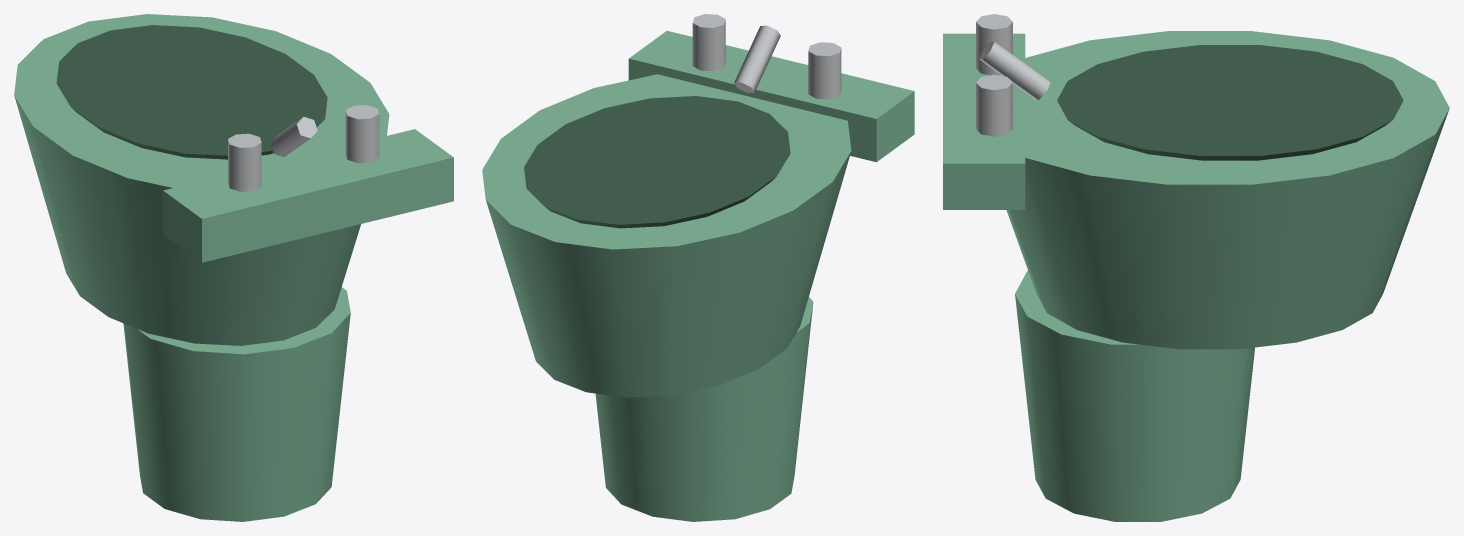
File: bidet-green.glb
The picture shows the model from 3 angles, left to right: view 1: azimuth 30°, elevation 25°; view 2: azimuth 150°, elevation 25°; view 3: azimuth 270°, elevation 25°; orthographic projection. The views are drawn at different scales.
Visible parts, largest first — view 1: bidet-green; view 2: bidet-green; view 3: bidet-green.
Part boxes in pixels (x1,y1,x2,y2): bidet-green: [14, 14, 453, 521]; bidet-green: [482, 14, 914, 521]; bidet-green: [943, 14, 1449, 521].
Bounding box in the file's own units: 0.3545 × 0.4712 × 0.494.
